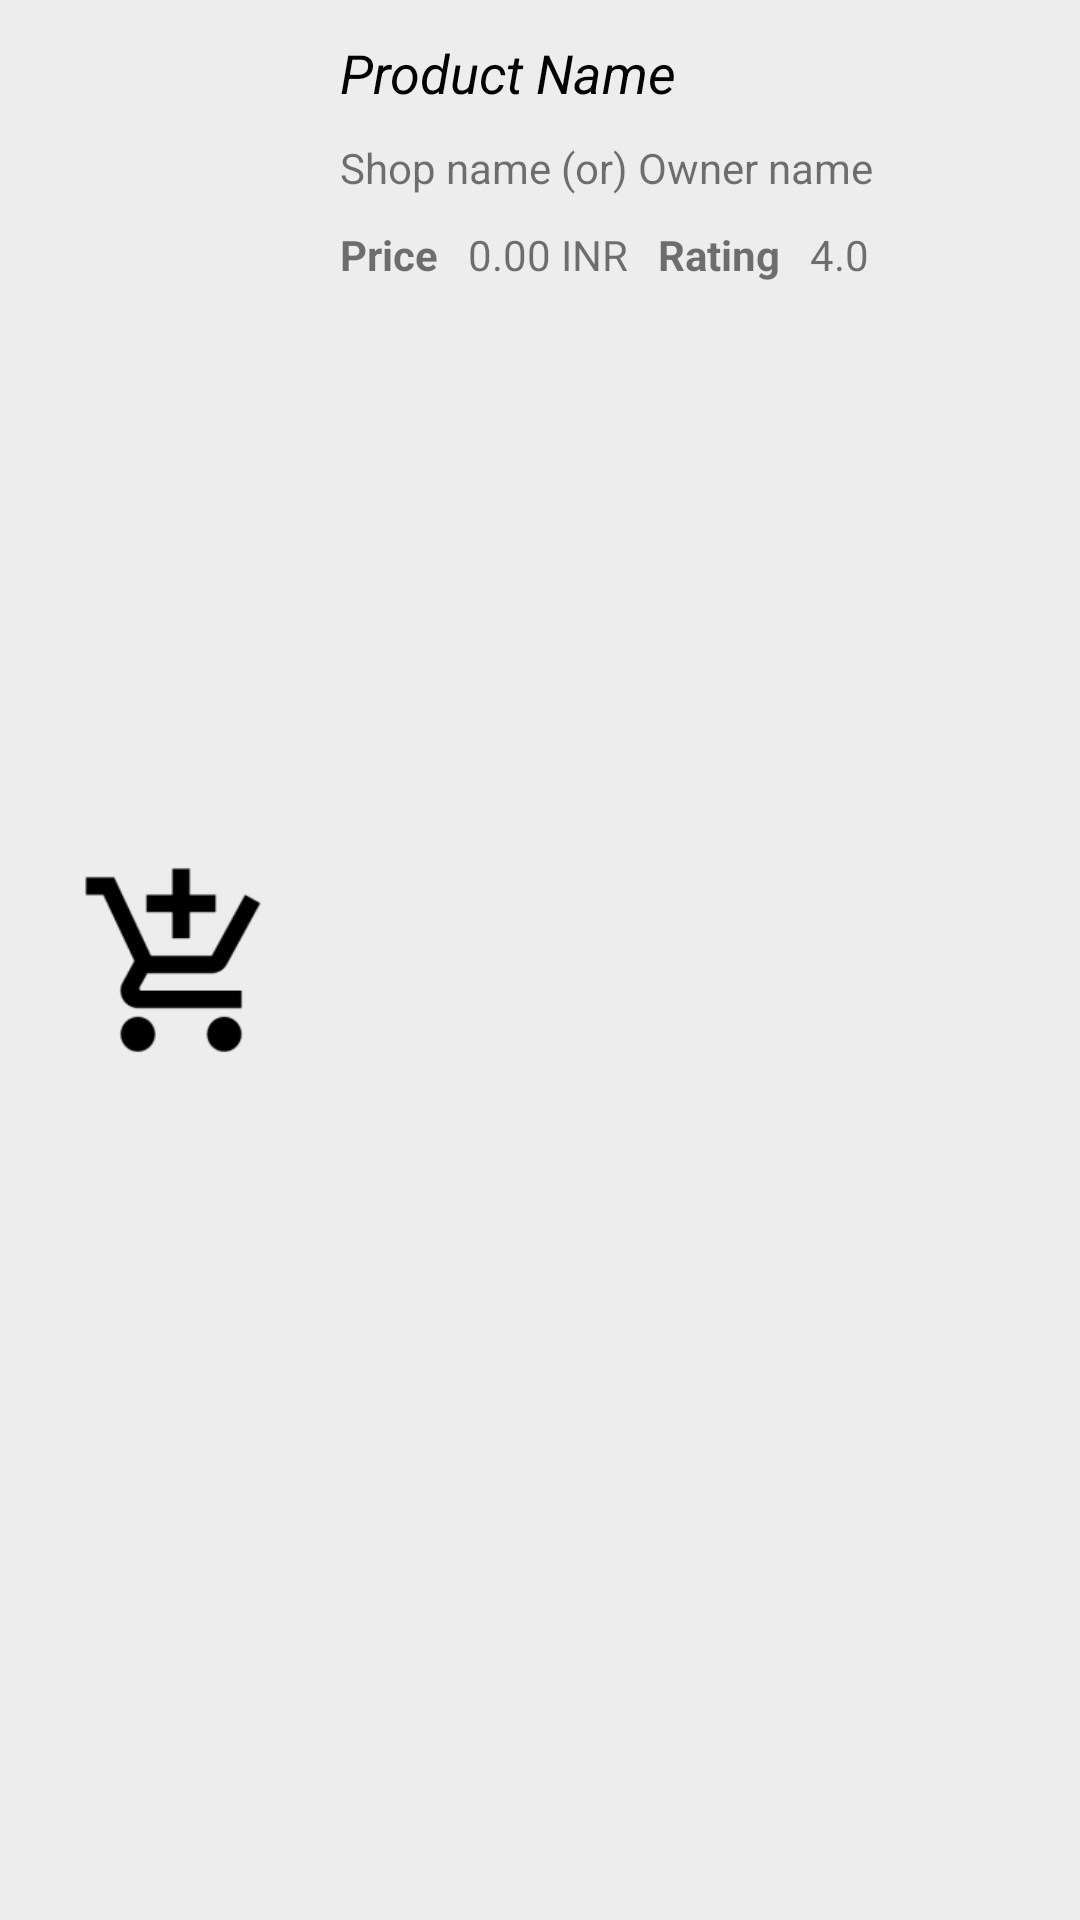

Screen size 1080 x 1920. Icon name, then its center in pixels as point (x, y):
ONLINE SHOP: point (173, 960)
